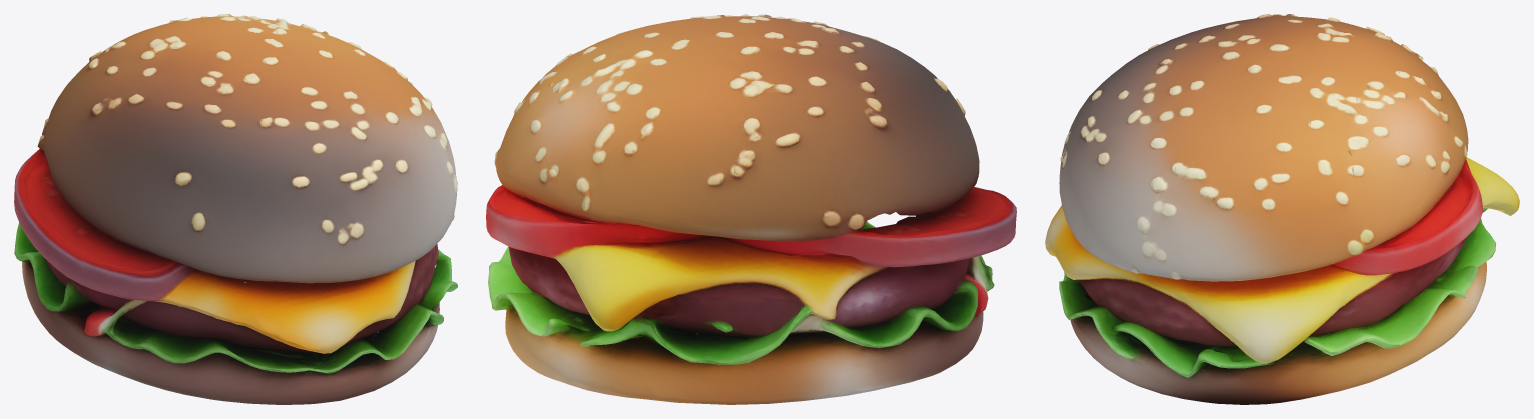
3 views of the same model, side by side, from view 1: azimuth 30°, elevation 25°; view 2: azimuth 150°, elevation 25°; view 3: azimuth 270°, elevation 25° (orthographic). The views are drawn at different scales.
Visible parts, largest first — view 1: world_0; view 2: world_0; view 3: world_0.
Boxes of the visible parts, <box> form: world_0: <box>14,14,457,404</box>; world_0: <box>486,14,1016,404</box>; world_0: <box>1045,14,1519,404</box>.
Size of the model in its own units: 0.7494 by 0.4912 by 0.7567.
Materials: 1 (1 with a texture image).
